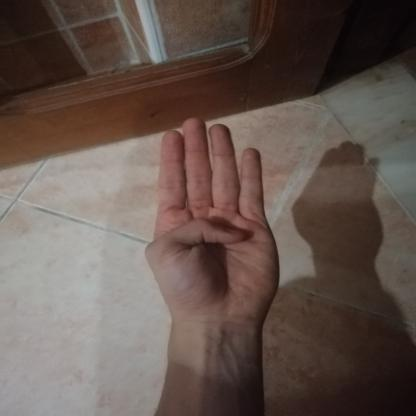KAAF: (126, 107, 295, 346)
